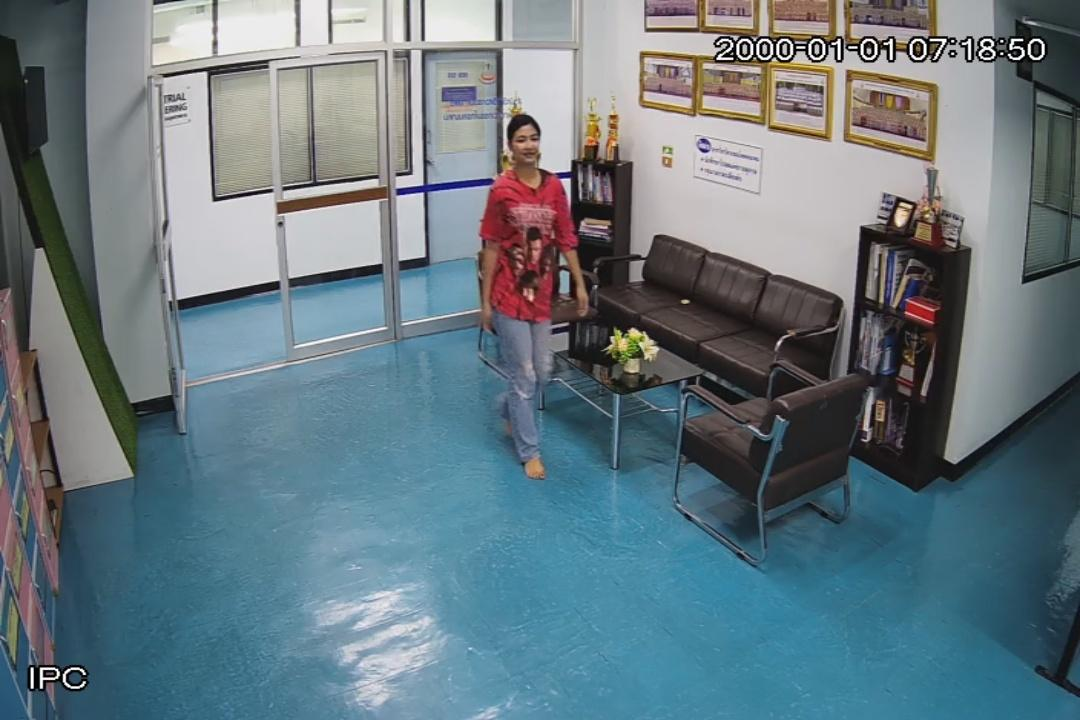normal: (460, 102, 592, 484)
